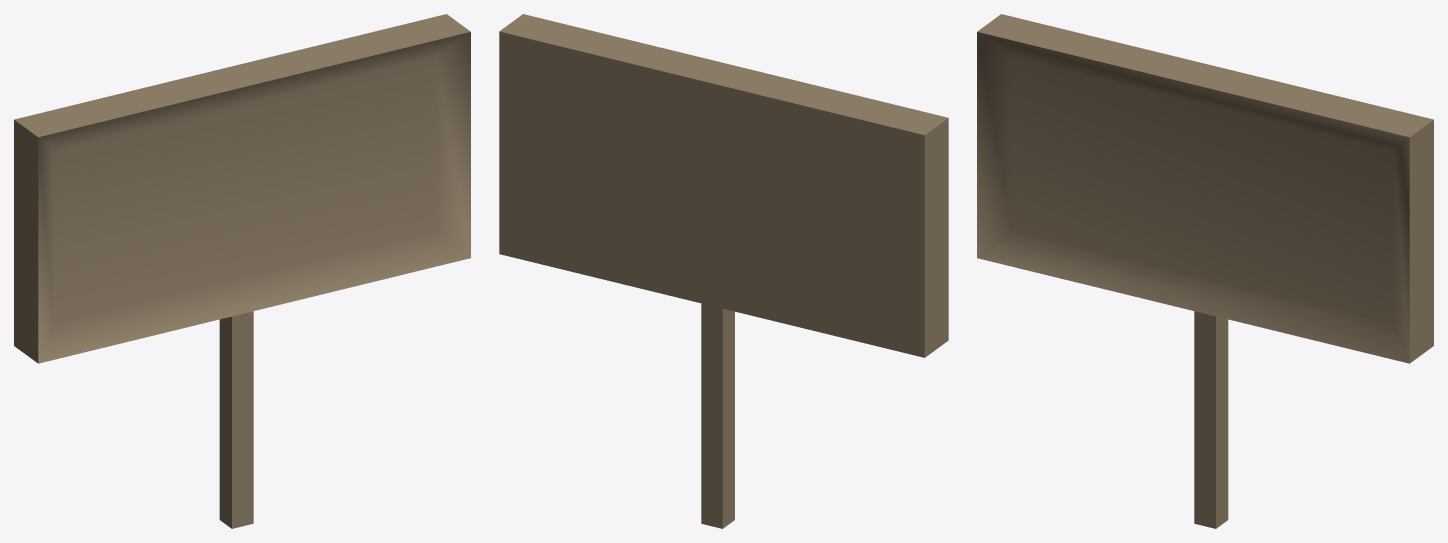
Rendered from sign 1.fbx.
3 views of the same model, side by side, from view 1: azimuth 30°, elevation 25°; view 2: azimuth 150°, elevation 25°; view 3: azimuth 330°, elevation 25° (orthographic).
Parts seen in each view (by area): view 1: pCube4, pCube5, pCube6; view 2: pCube5, pCube4, pCube6; view 3: pCube4, pCube5, pCube6.
Boxes of the visible parts, x1,y1,x2,y2 form: pCube4: (25,22,470,363); pCube5: (14,14,457,354); pCube6: (219,311,253,528); pCube5: (499,23,936,357); pCube4: (511,14,948,348); pCube6: (701,301,734,528); pCube4: (977,22,1422,363); pCube5: (990,14,1433,354); pCube6: (1194,311,1228,528).
Size of the model in its own units: 20 by 19.9 by 1.94.
